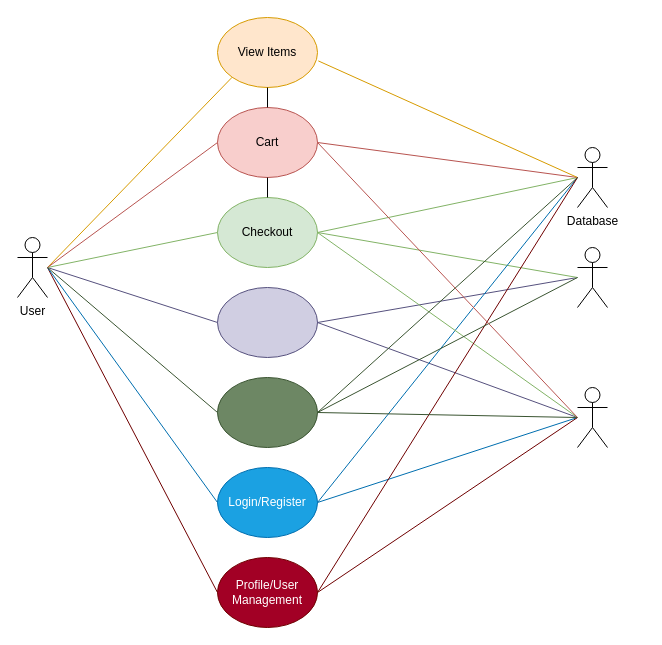
This 662x645 diagram has some shape labels left out. Each missing label, with the centre of its shape:
Delivery Manager: the point at 592,277
Pickup Item: the point at 267,322
Return Item: the point at 267,412
User Authentication: the point at 592,417
